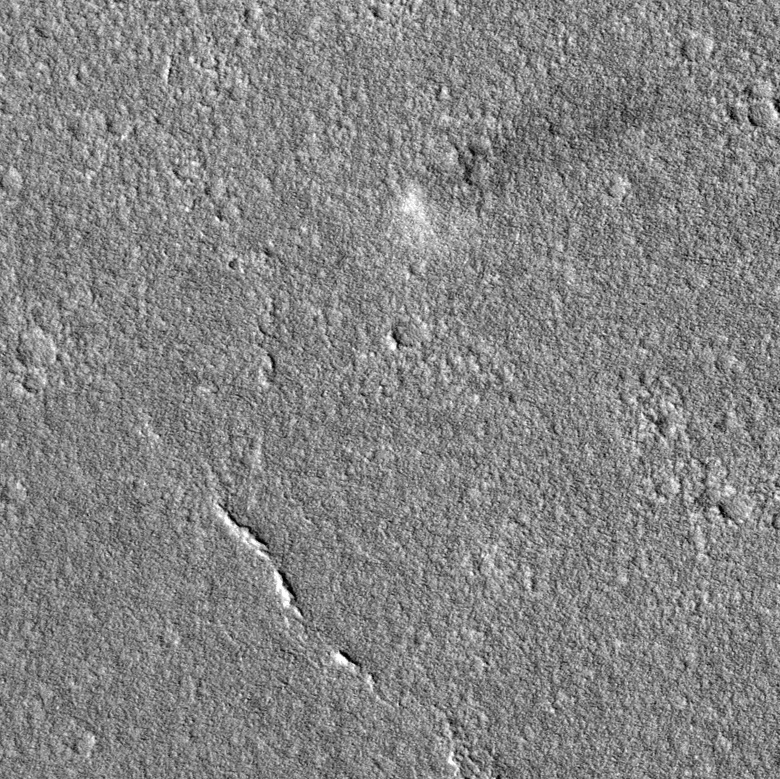dust_devil: (393, 98, 648, 232)
